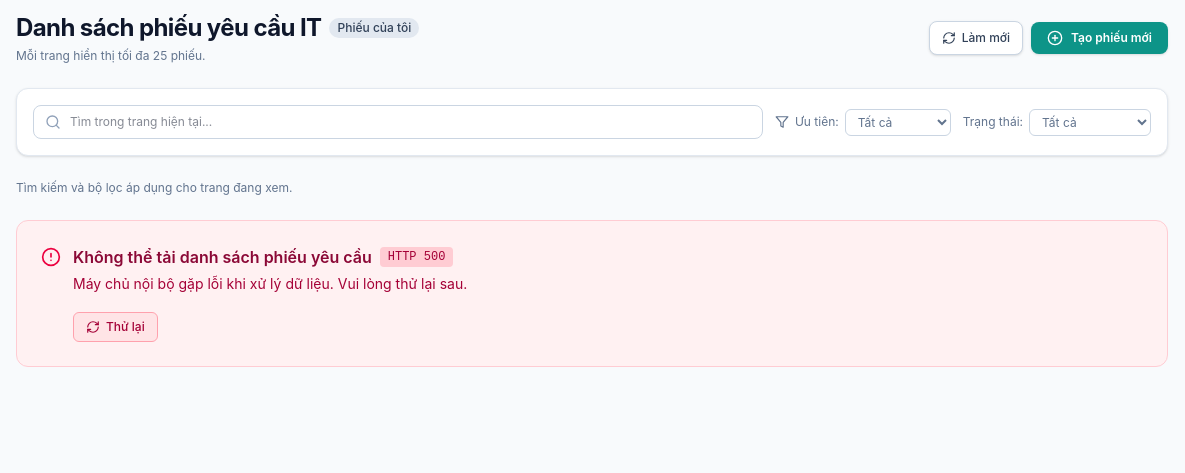
Scenario: TicketListPage Component › renders error state and retry button on API failure
This screenshot has width=1185, height=473.
Expected: the heading "Không thể tải danh sách phiếu yêu cầu" is shown, left=73, top=245, right=372, bottom=269
Click the button "Thử lại". click: [115, 327]
box: left=73, top=312, right=158, bottom=342
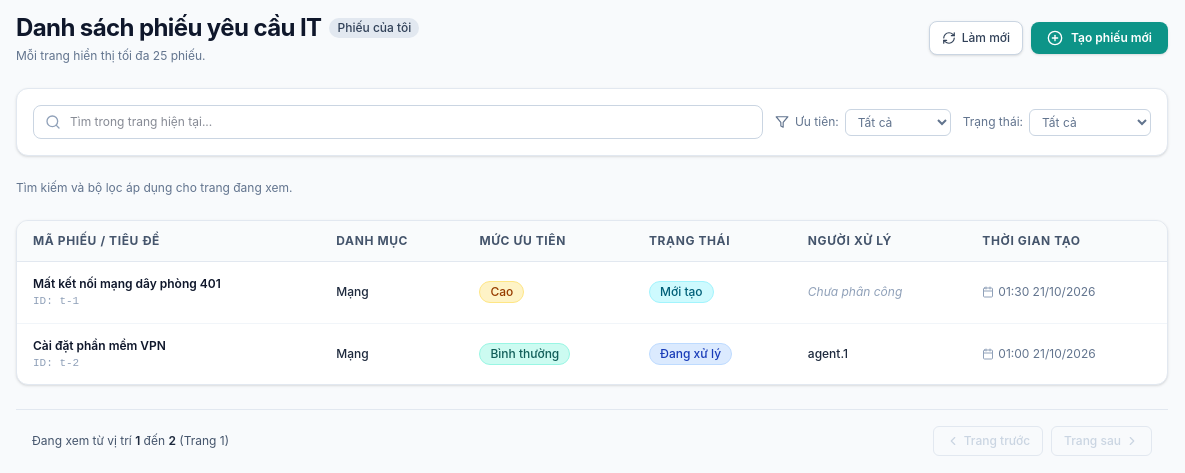
Now the text "Mất kết nối mạng dây phòng 401" is shown, box left=33, top=276, right=221, bottom=291
